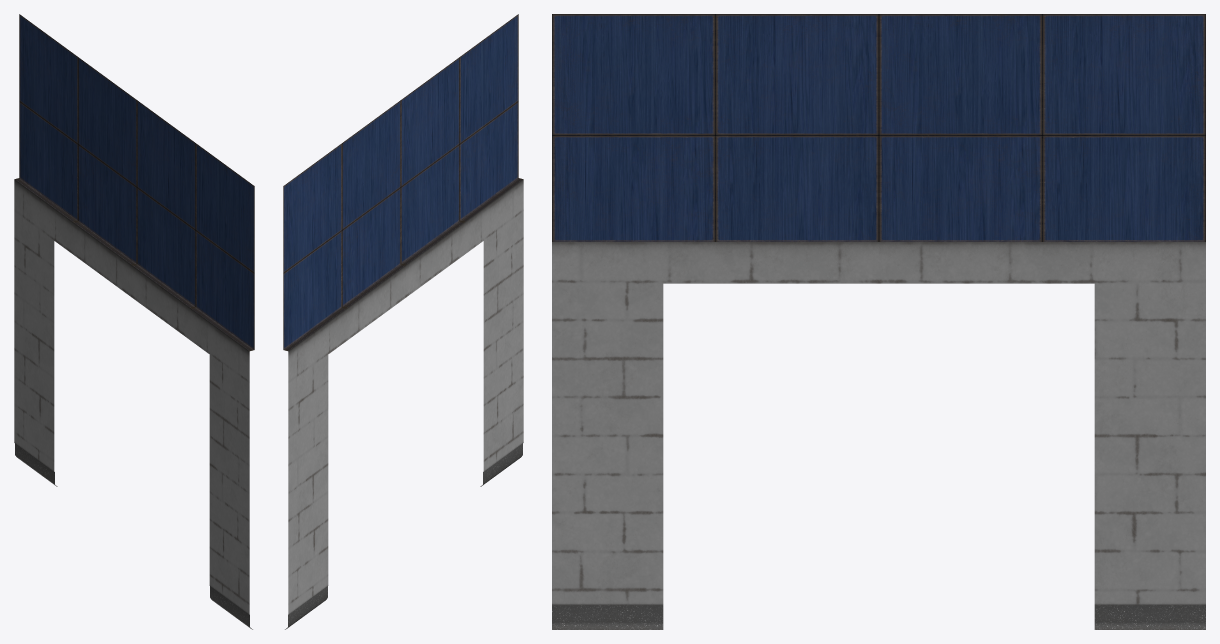
The model's file is Cafateria 4m Door B.fbx.
3 renders of one model, left to right at view 1: azimuth 30°, elevation 25°; view 2: azimuth 150°, elevation 25°; view 3: azimuth 270°, elevation 25°, orthographic. The views are drawn at different scales.
Visible parts, largest first — view 1: Cafateria_4M_Door_B; view 2: Cafateria_4M_Door_B; view 3: Cafateria_4M_Door_B.
Boxes of the visible parts, <box> form: Cafateria_4M_Door_B: <box>14,14,254,629</box>; Cafateria_4M_Door_B: <box>283,14,523,629</box>; Cafateria_4M_Door_B: <box>552,14,1205,629</box>.
Size of the model in its own units: 5 by 416 by 400.
